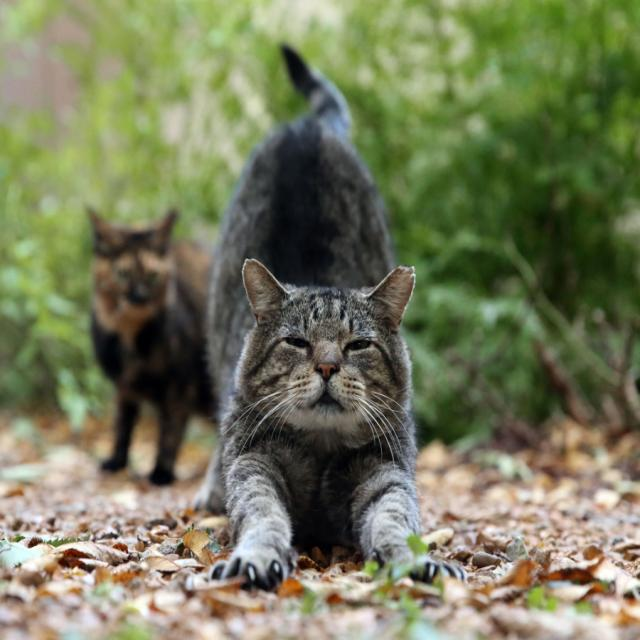cat: (195, 46, 419, 587), (89, 211, 212, 485)
